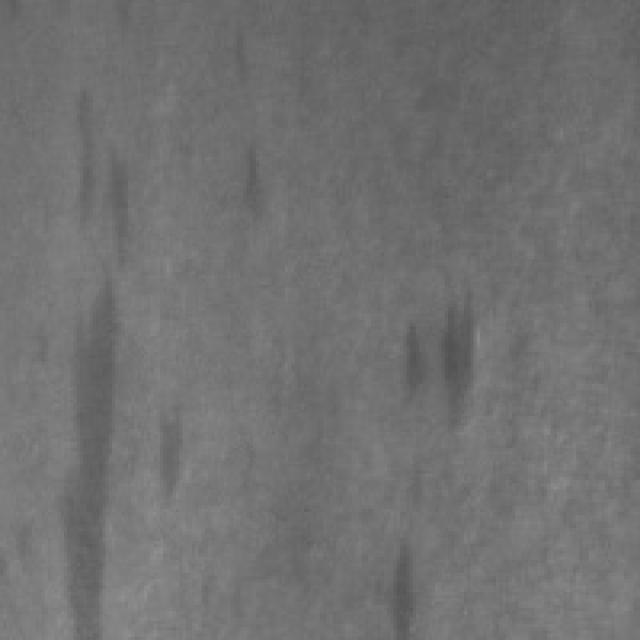inclusion: (48, 244, 122, 630), (390, 278, 477, 432), (64, 77, 131, 269), (368, 518, 426, 637), (144, 394, 192, 506), (221, 131, 272, 234)
